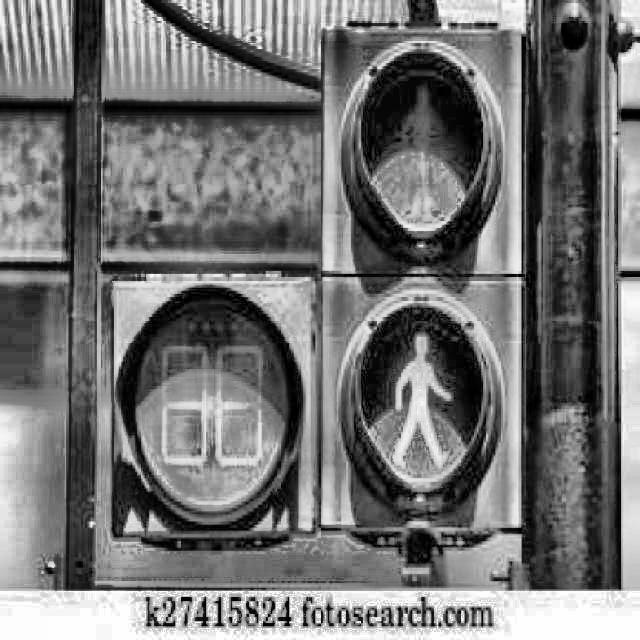semaforo pedestre: (260, 10, 583, 582), (360, 280, 503, 517)
